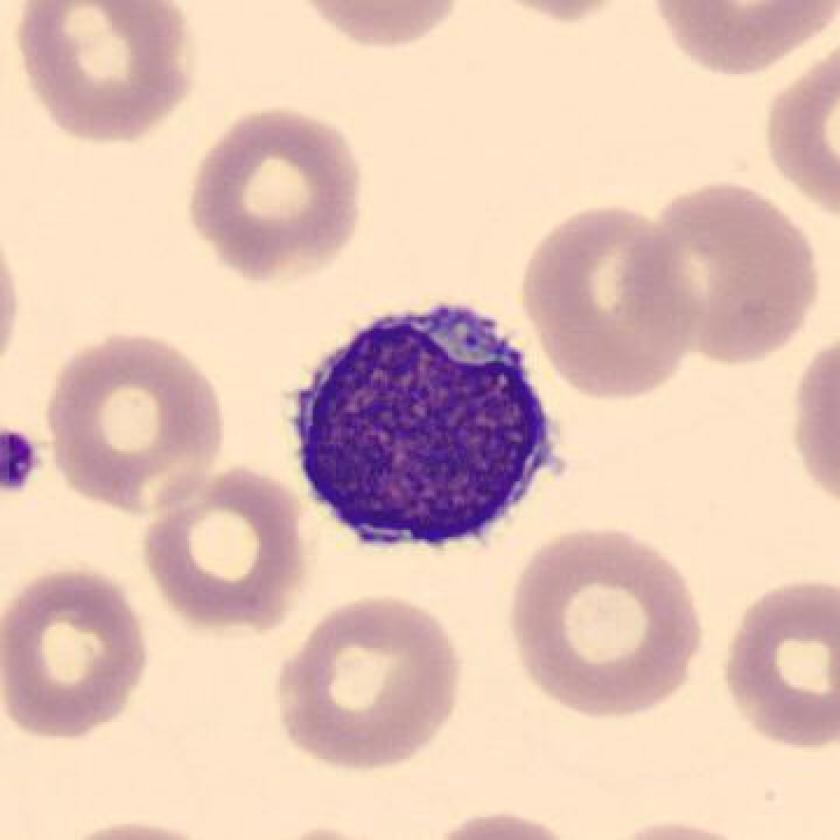lymphocyte: (276, 297, 575, 568)
